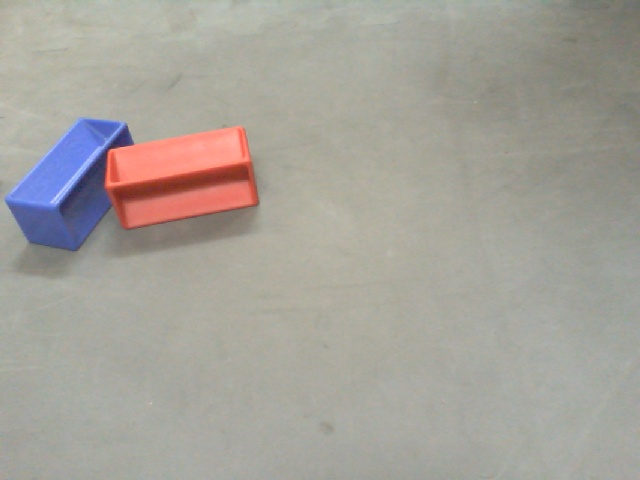BlueSample: (5, 117, 135, 251)
RedSample: (104, 119, 260, 233)
